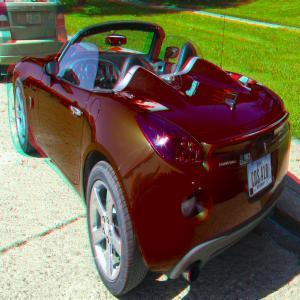Vehicle-registration-plate: (247, 154, 274, 200)
